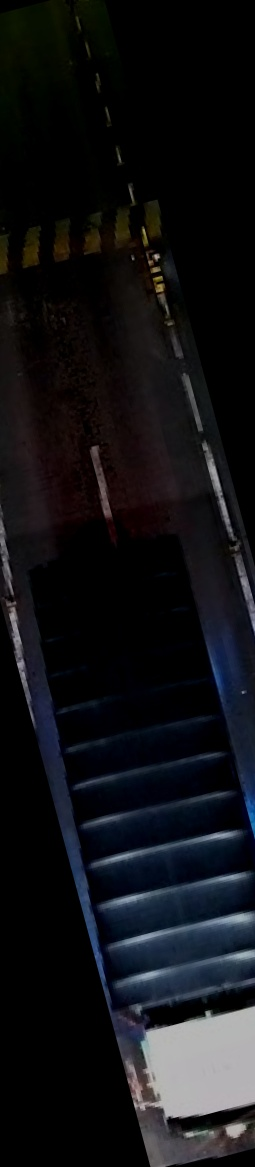truck: (0, 510, 255, 1155)
